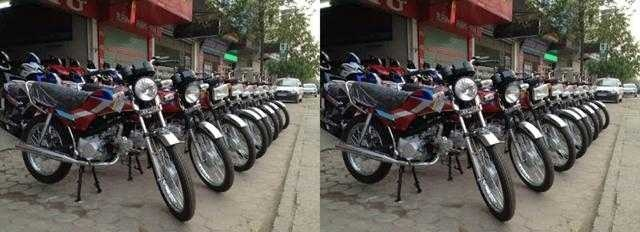motorcycle: (8, 61, 196, 220), (337, 66, 521, 224)
